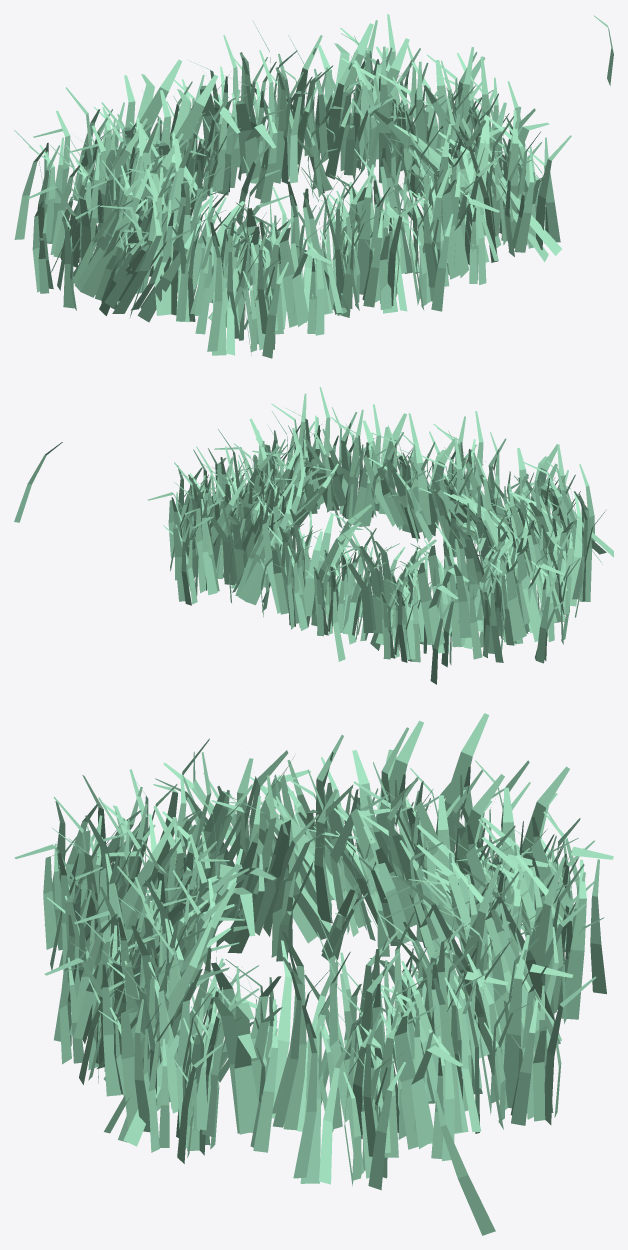
Rendered from 041520grassModel03.gltf.
3 views of the same model, one above another, from view 1: azimuth 30°, elevation 25°; view 2: azimuth 150°, elevation 25°; view 3: azimuth 270°, elevation 25° (orthographic). The views are drawn at different scales.
Parts seen in each view (by area): view 1: Plane.419, Plane.599, Plane.580, Plane.464, Plane.385, Plane.382, Plane.629, Plane.567, Plane.610, Plane.340, Plane.579, Plane.566 (+66 smaller); view 2: Plane.441, Plane.490, Plane.449, Plane.442, Plane.536, Plane.124, Plane.517, Plane.111, Plane.704, Plane.378, Plane.496, Plane.148 (+35 smaller); view 3: Plane.706, Plane.675, Plane.542, Plane.725, Plane.726, Plane.089, Plane.674, Plane.738, Plane.683, Plane.739, Plane.441, Plane.619 (+57 smaller).
Boxes of the visible parts, <box> form: Plane.419: <box>80,163,152,297</box>; Plane.599: <box>357,164,374,294</box>; Plane.580: <box>279,227,297,327</box>; Plane.464: <box>379,46,392,182</box>; Plane.385: <box>112,198,161,313</box>; Plane.382: <box>137,220,201,322</box>; Plane.629: <box>442,179,459,279</box>; Plane.567: <box>207,235,222,351</box>; Plane.610: <box>501,110,518,240</box>; Plane.340: <box>169,74,217,171</box>; Plane.579: <box>292,249,332,326</box>; Plane.566: <box>210,222,226,355</box>; Plane.441: <box>506,561,526,641</box>; Plane.490: <box>245,484,294,605</box>; Plane.449: <box>453,564,471,637</box>; Plane.442: <box>516,537,541,641</box>; Plane.536: <box>303,531,322,616</box>; Plane.124: <box>345,409,363,518</box>; Plane.517: <box>417,562,432,643</box>; Plane.111: <box>359,404,380,526</box>; Plane.704: <box>202,500,217,595</box>; Plane.378: <box>570,493,581,606</box>; Plane.496: <box>192,517,234,585</box>; Plane.148: <box>414,441,431,526</box>; Plane.706: <box>503,935,529,1108</box>; Plane.675: <box>234,1033,258,1134</box>; Plane.542: <box>561,859,586,1019</box>; Plane.725: <box>394,1015,431,1149</box>; Plane.726: <box>411,1045,463,1148</box>; Plane.089: <box>434,1091,495,1235</box>; Plane.674: <box>282,957,306,1130</box>; Plane.738: <box>293,1023,317,1178</box>; Plane.683: <box>253,1020,277,1152</box>; Plane.739: <box>300,1005,321,1183</box>; Plane.441: <box>444,713,489,853</box>; Plane.619: <box>102,964,121,1096</box>.
Size of the model in its own units: 123 by 31.95 by 77.46.
